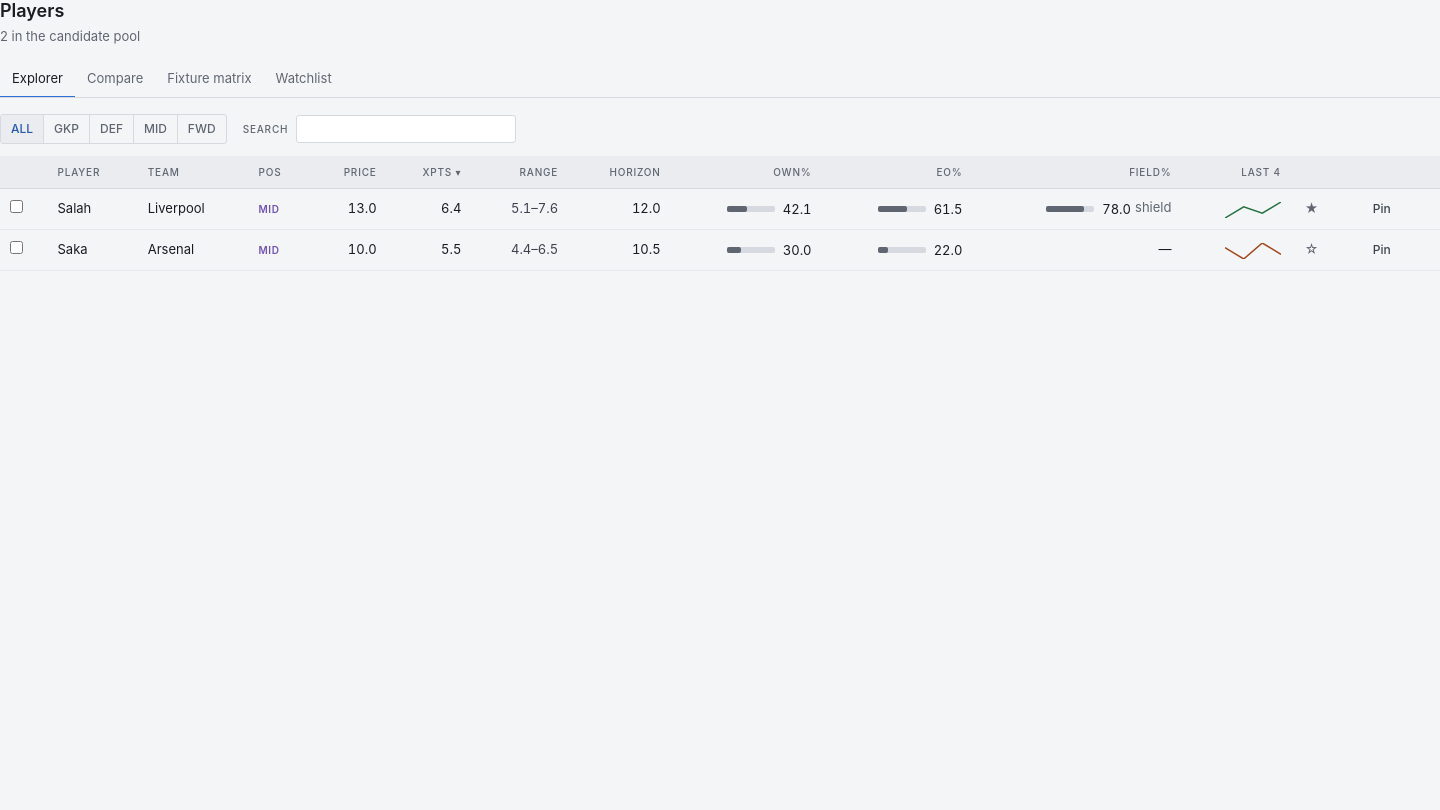
Test: Players hub › pins through the overrides endpoint and closes
Click the button with aria-label "pin Salah". click: {"x": 1382, "y": 209}
box: [1361,195,1403,223]
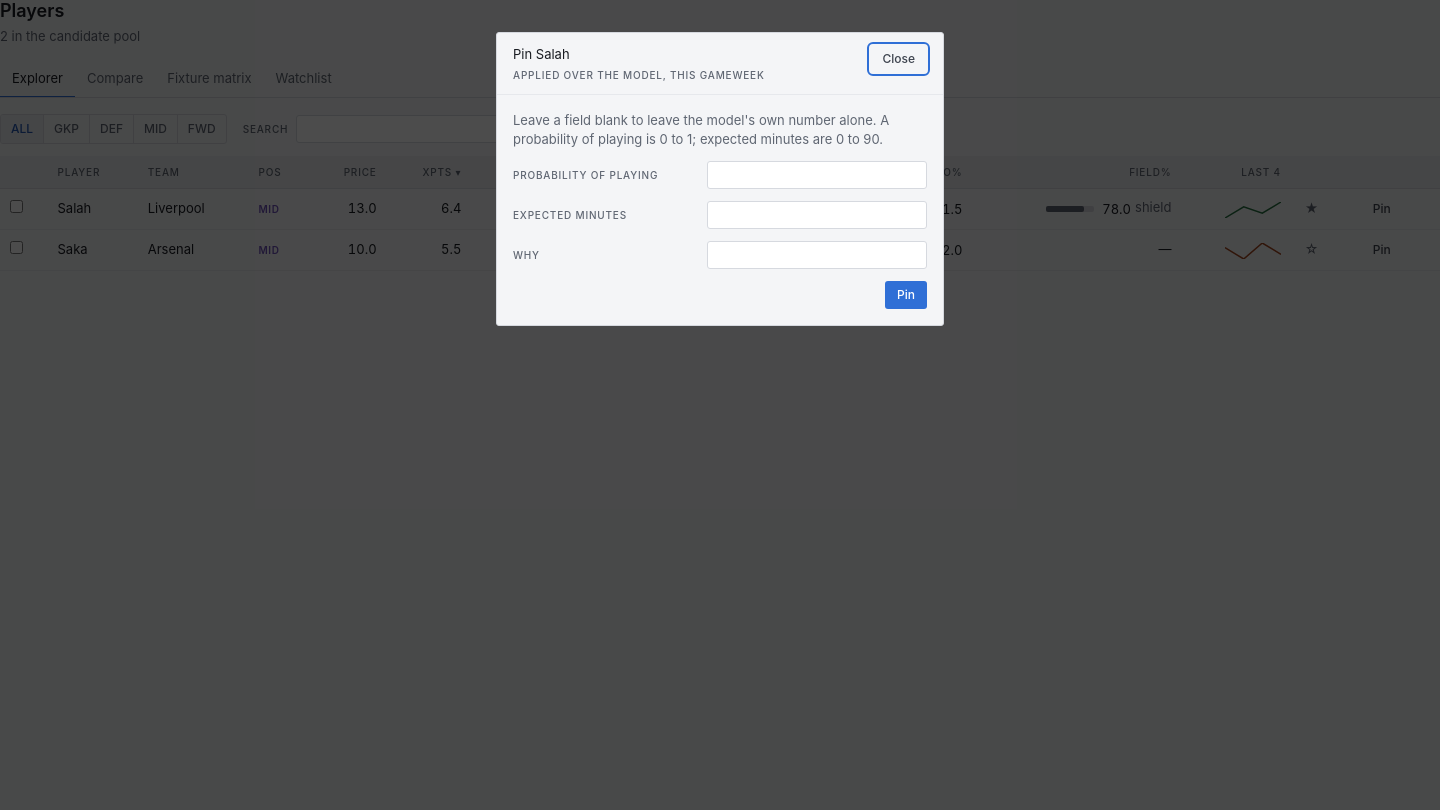
Type "1" into the field labelled "Probability of playing". click: {"x": 817, "y": 175}
box: [707,161,927,189]
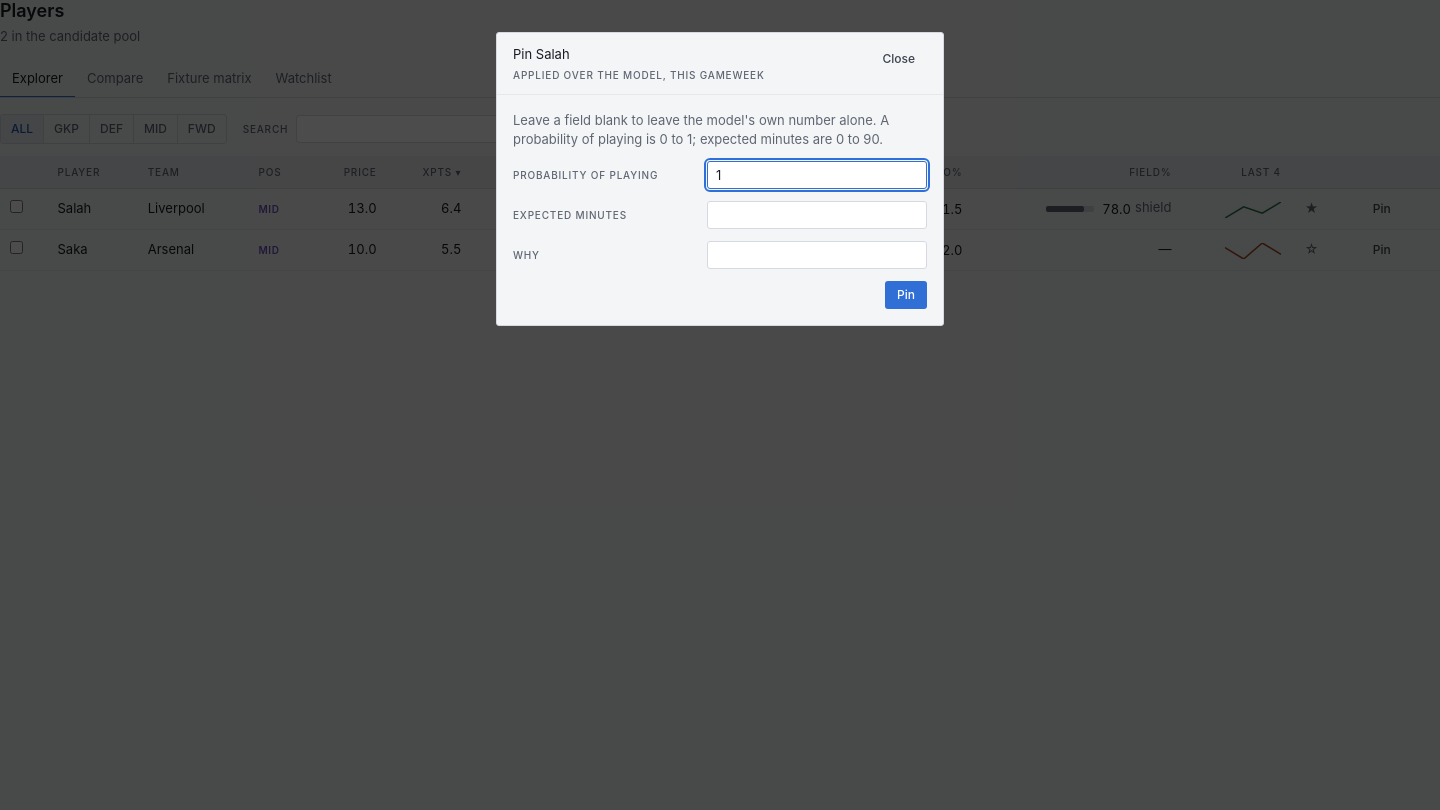
Click the button "Pin". click: {"x": 906, "y": 295}
box: [885,281,927,309]
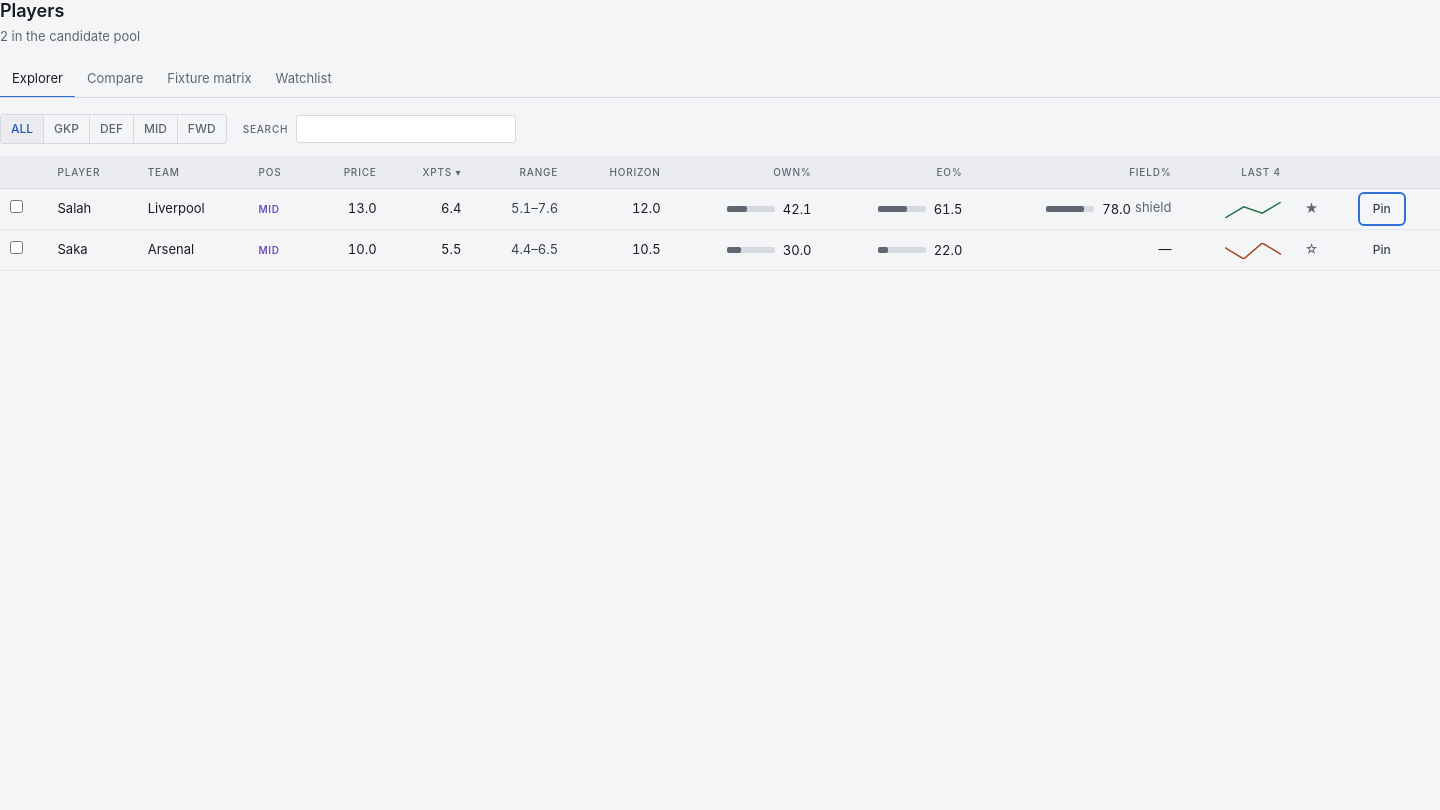
Expected: the dialog is gone
